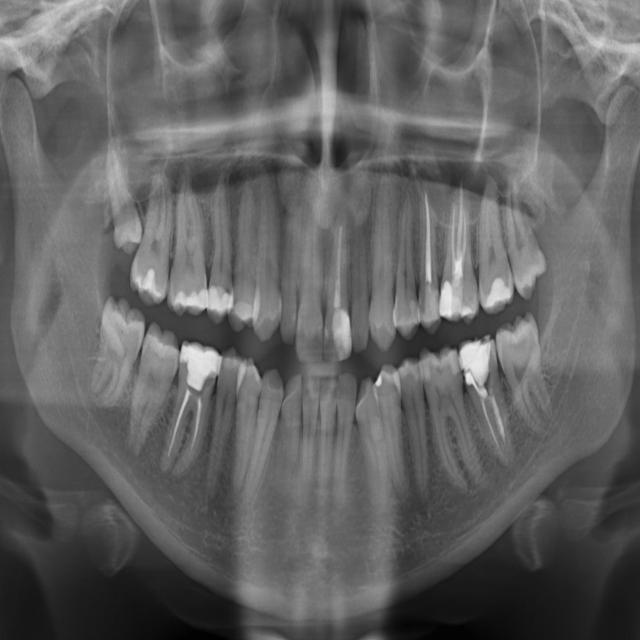CompositeResinRestoration: (183, 348, 218, 385), (460, 338, 490, 380), (174, 291, 206, 321), (485, 276, 511, 310), (136, 270, 161, 300), (442, 288, 464, 320), (334, 321, 351, 358), (424, 294, 441, 328), (206, 298, 232, 320), (411, 300, 422, 330), (448, 351, 461, 376), (416, 364, 428, 386)
DentalCaries: (434, 362, 448, 390), (222, 274, 232, 300)
ImpactedTooth: (109, 136, 139, 252)
RootCanalTreatment: (165, 390, 208, 470), (449, 179, 476, 278), (480, 378, 506, 468), (330, 218, 351, 320), (421, 185, 436, 295)
